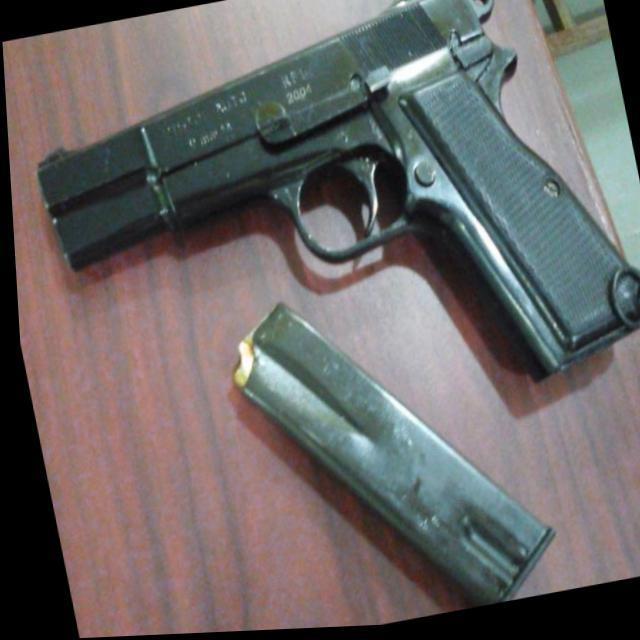weapon: (5, 0, 640, 469)
